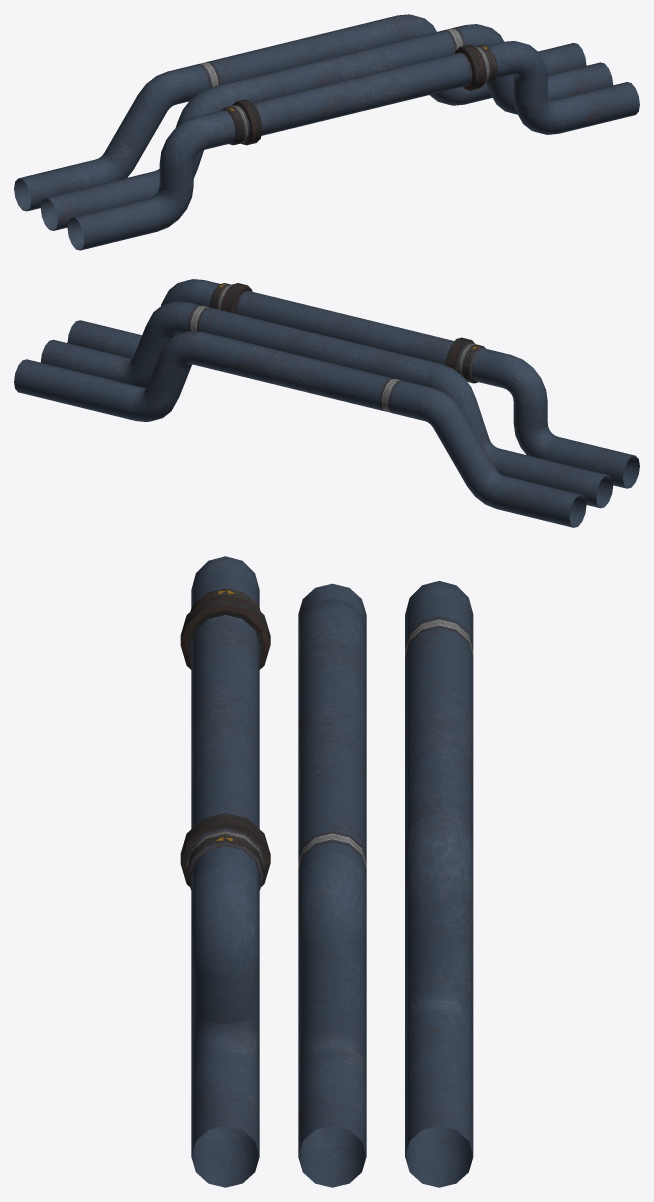
The model's file is PIpe3_F_L0.fbx.
3 views of the same model, one above another, from view 1: azimuth 30°, elevation 25°; view 2: azimuth 150°, elevation 25°; view 3: azimuth 270°, elevation 25° (orthographic). The views are drawn at different scales.
Visible parts, largest first — view 1: PIpe3_F_L0; view 2: PIpe3_F_L0; view 3: PIpe3_F_L0.
Boxes of the visible parts, bbox=[...] form: PIpe3_F_L0: bbox=[14, 14, 639, 250]; PIpe3_F_L0: bbox=[14, 279, 639, 527]; PIpe3_F_L0: bbox=[180, 556, 473, 1187].
Bounding box in the file's own units: 200 × 36.49 × 45.66.
